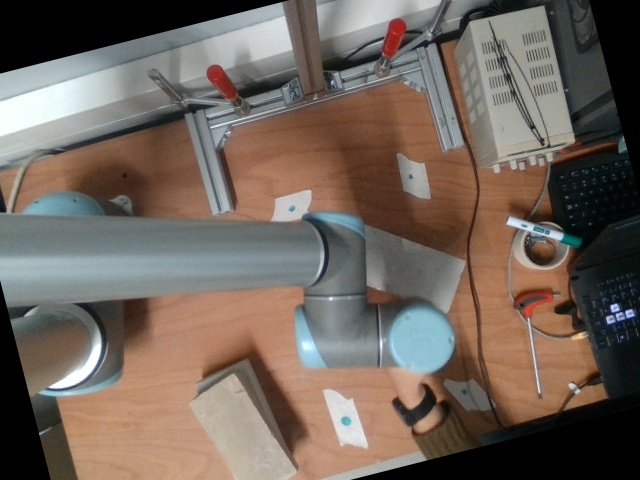brick: (193, 376, 296, 479)
